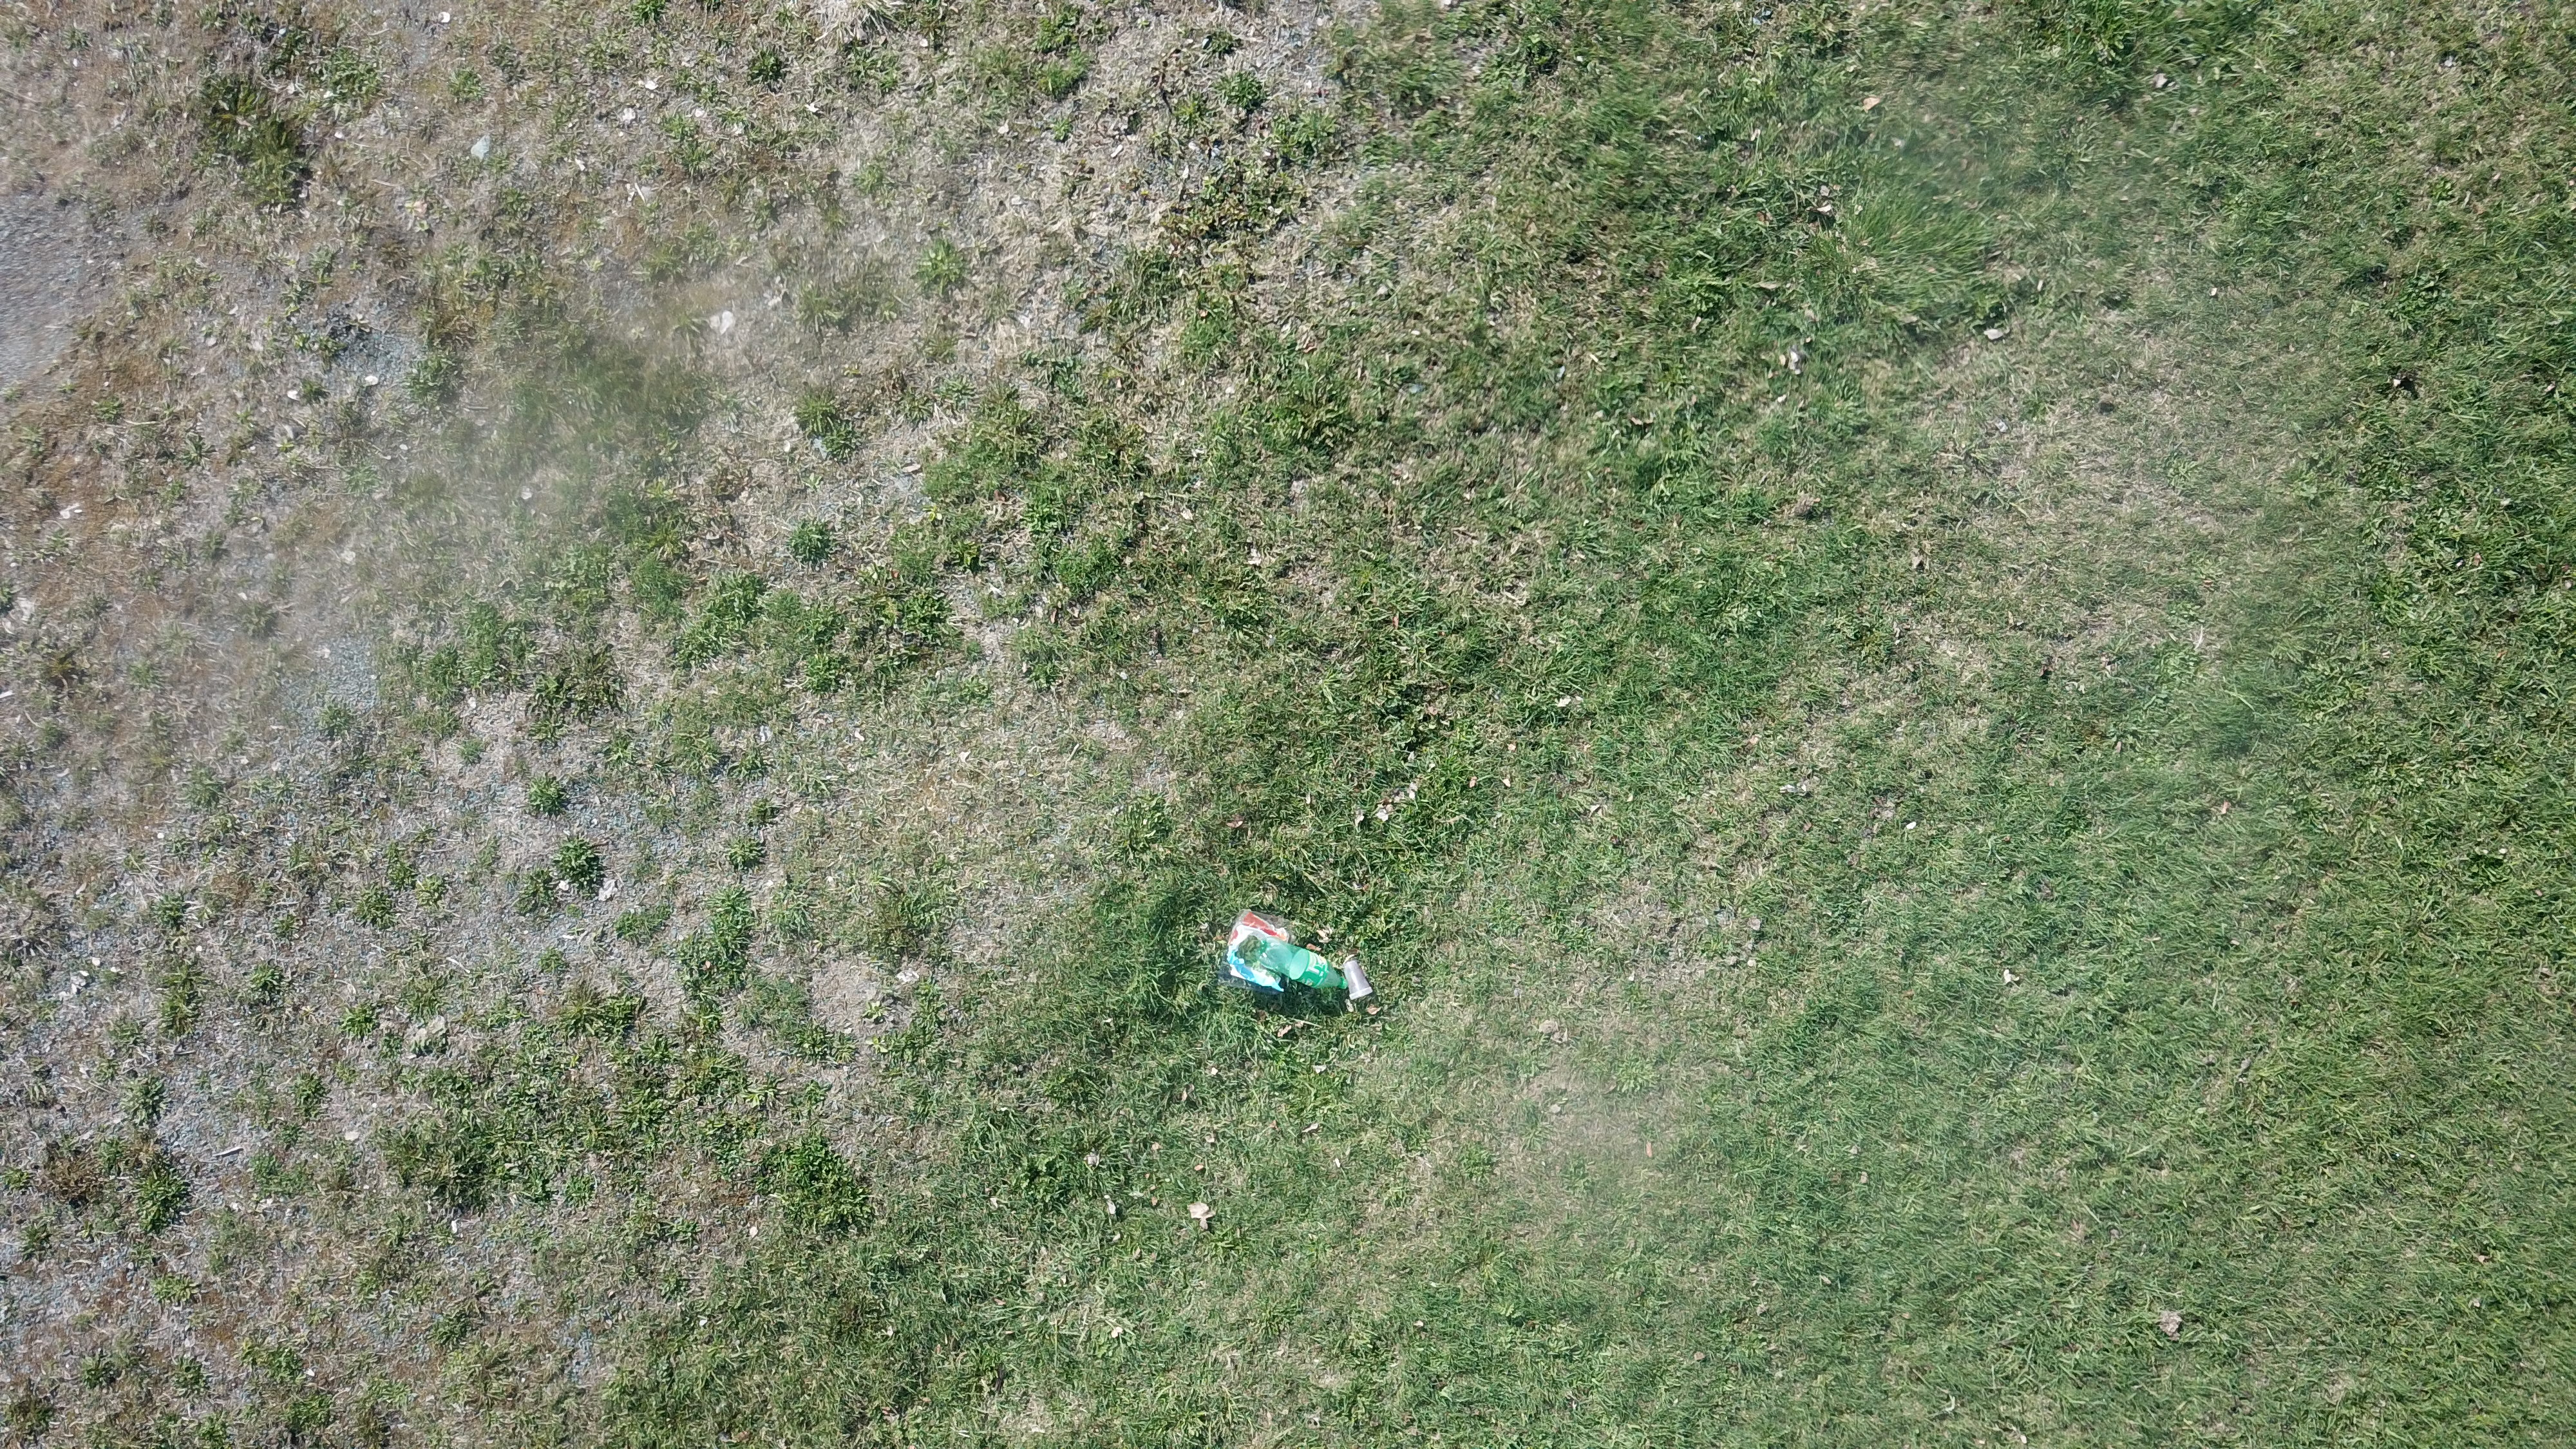Plastic: (1228, 909, 1290, 989), (1345, 961, 1376, 1000)
PlasticBottle: (1267, 934, 1348, 994)
